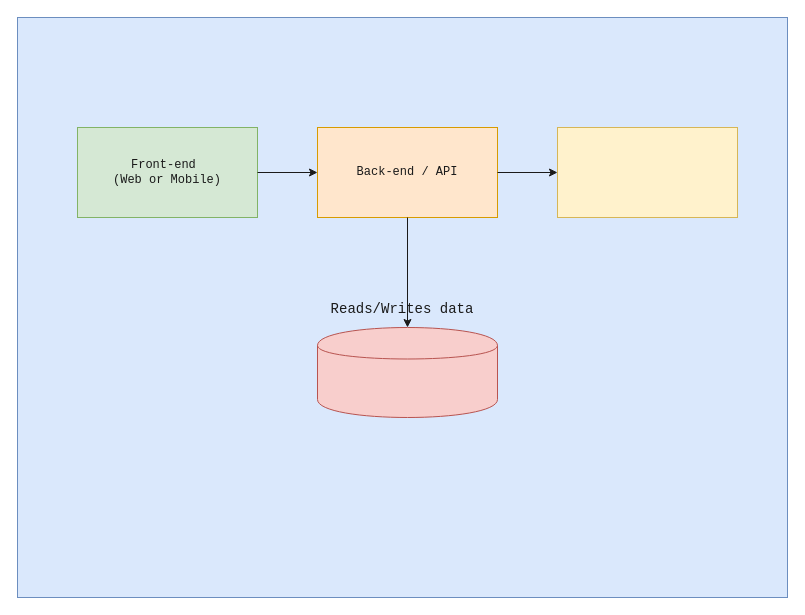
Image size: 805x615. Some labels were removed from this diagram. Here are the shapes that lost their labels. From the top down, the box of each, then its label:
(556, 126, 738, 218): Notification component ( Sends notifications)
(316, 326, 498, 418): Database
